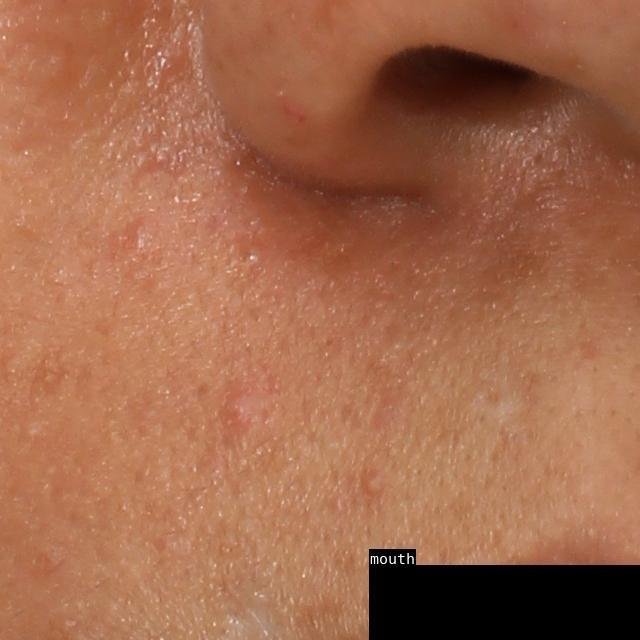hypertrophic_scar: (469, 379, 524, 434)
papule: (215, 379, 262, 433), (122, 218, 149, 254), (358, 471, 382, 497)
